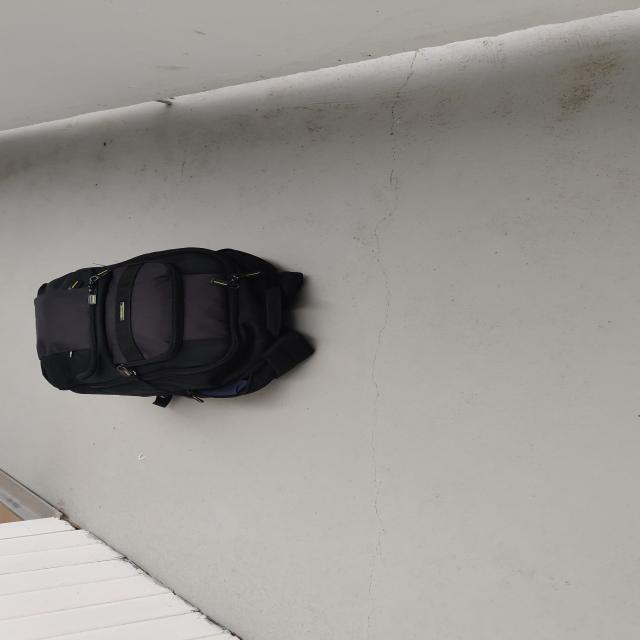backpack: (24, 238, 324, 406)
